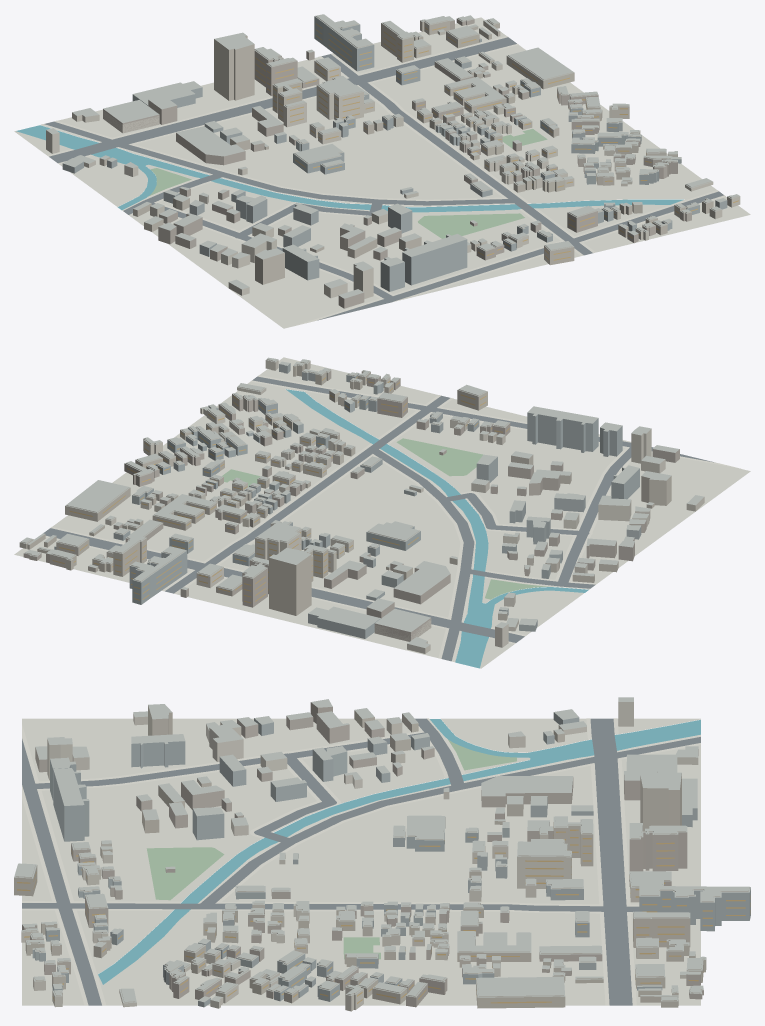
The picture shows the model from 3 angles, top to bottom: view 1: azimuth 30°, elevation 25°; view 2: azimuth 150°, elevation 25°; view 3: azimuth 270°, elevation 25°; orthographic projection. The views are drawn at different scales.
Visible parts, largest first — view 1: city; view 2: city; view 3: city.
Boxes of the visible parts, x1,y1,x2,y2 form: city: (14,14,750,328); city: (14,357,750,668); city: (14,697,750,1011).
Bounding box in the file's own units: 514 × 52.38 × 543.
